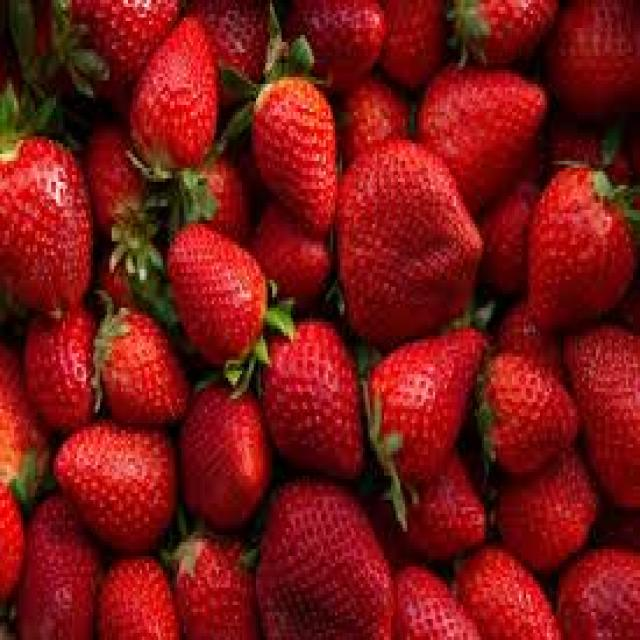strawberry: (336, 150, 486, 322), (361, 334, 497, 496), (516, 168, 640, 322), (130, 0, 222, 204), (0, 129, 91, 315), (264, 319, 362, 476), (165, 227, 272, 369), (51, 427, 177, 544), (249, 66, 344, 215), (178, 376, 272, 508), (98, 291, 190, 414), (482, 351, 574, 461)
